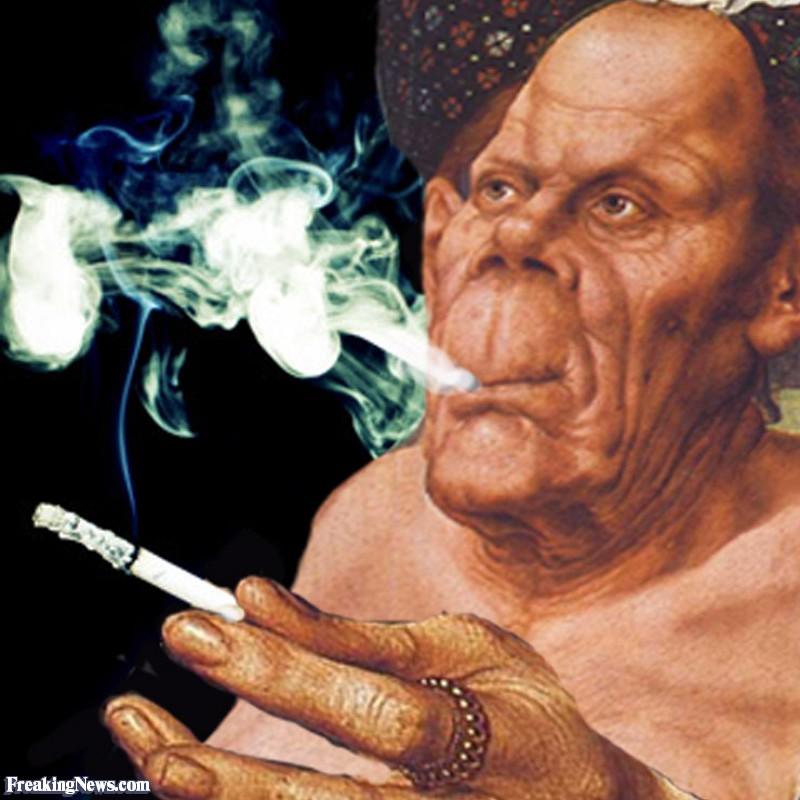cigarette: (26, 502, 251, 626)
